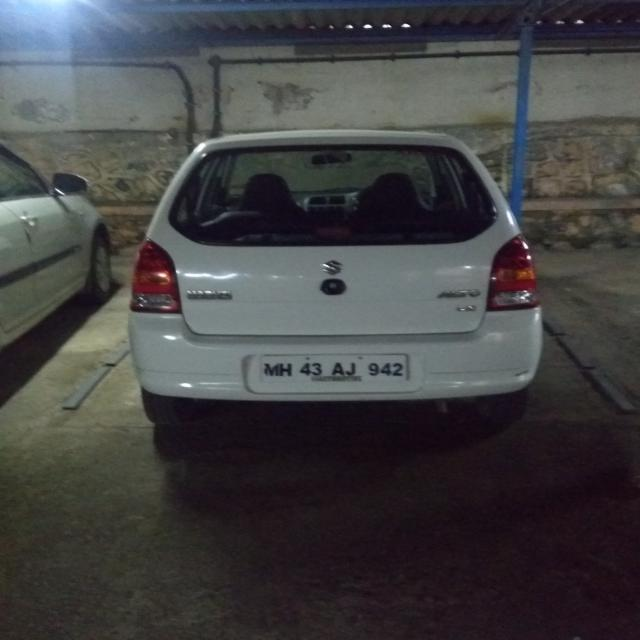Number-Plate: (259, 349, 409, 387)
